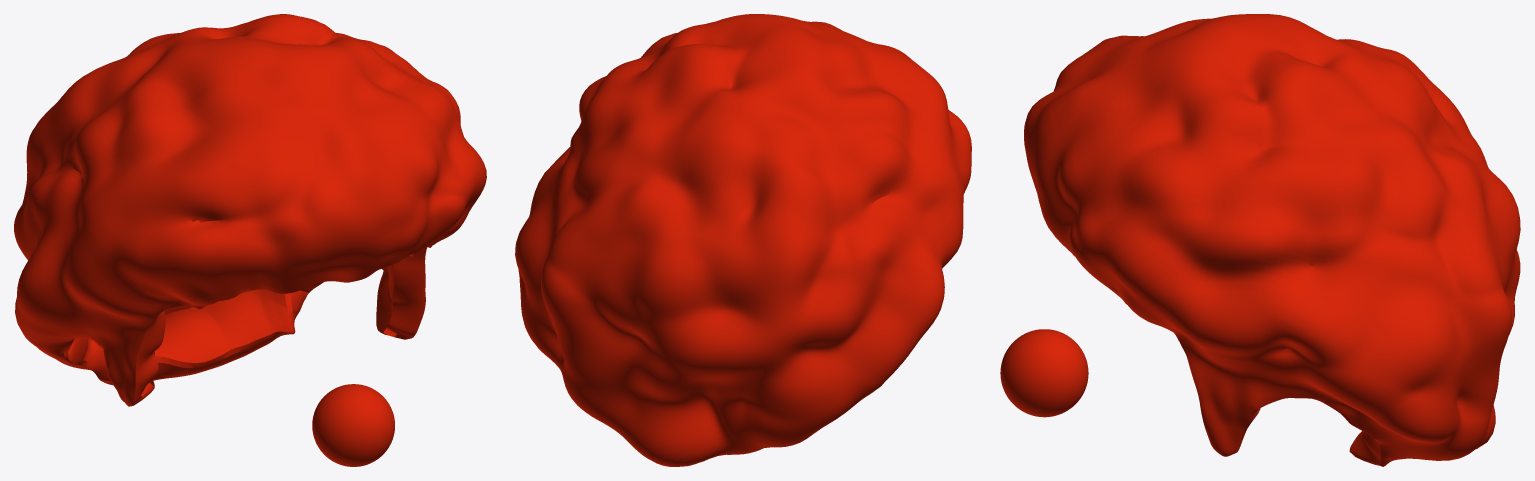
The model's file is peruka.fbx.
3 views of the same model, side by side, from view 1: azimuth 30°, elevation 25°; view 2: azimuth 150°, elevation 25°; view 3: azimuth 270°, elevation 25° (orthographic). The views are drawn at different scales.
Parts seen in each view (by area): view 1: afro, nos; view 2: afro; view 3: afro, nos.
Part boxes in pixels (box(x1,y1,x2,y2)): afro: box(14, 14, 486, 406); nos: box(312, 384, 394, 466); afro: box(515, 14, 971, 466); afro: box(1024, 14, 1520, 466); nos: box(1000, 329, 1088, 417).
Size of the model in its own units: 180 by 159 by 181.
